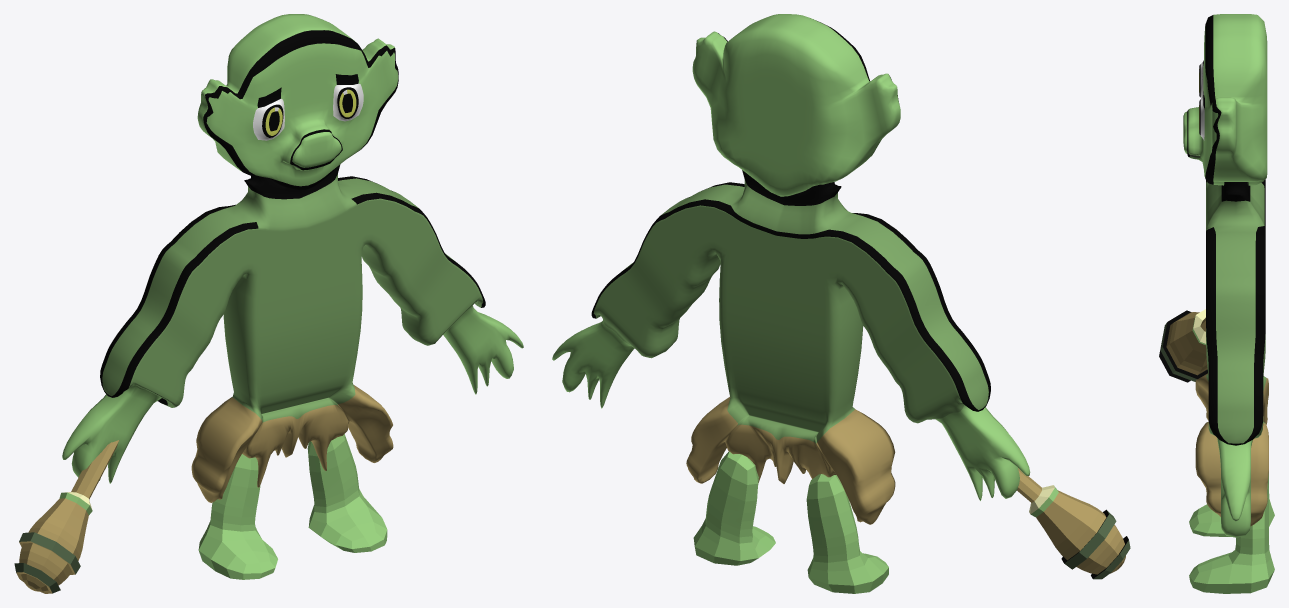
File: Goblin2.fbx
3 views of the same model, side by side, from view 1: azimuth 30°, elevation 25°; view 2: azimuth 150°, elevation 25°; view 3: azimuth 270°, elevation 25° (orthographic). The views are drawn at different scales.
Visible parts, largest first — view 1: goblin.001, Club; view 2: goblin.001, Club; view 3: goblin.001, Club.
Part boxes in pixels (x1,y1,x2,y2): goblin.001: [62, 14, 523, 579]; Club: [14, 440, 119, 593]; goblin.001: [552, 14, 1030, 593]; Club: [1017, 468, 1130, 579]; goblin.001: [1183, 14, 1274, 593]; Club: [1159, 309, 1207, 382].
Bounding box in the file's own units: 487 × 465 × 91.35.
4 materials, 2 textured.
